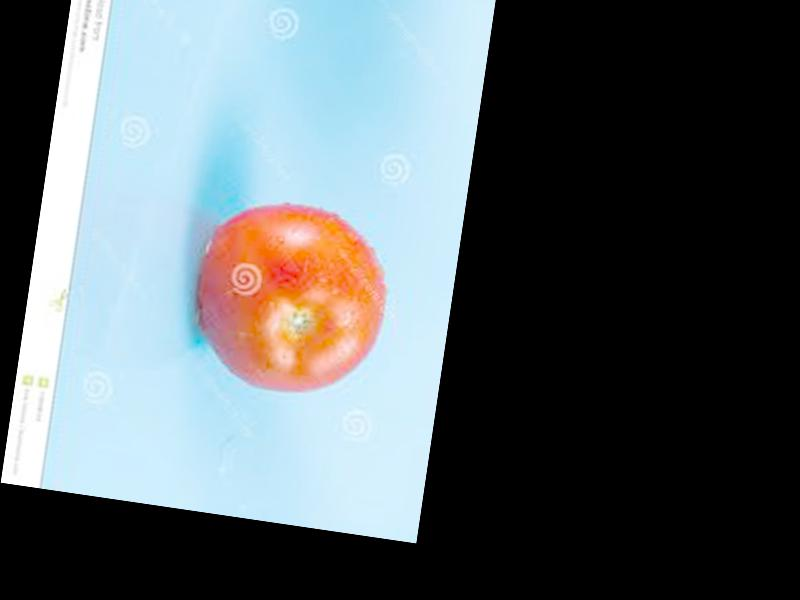Tomato: (186, 192, 397, 407)
